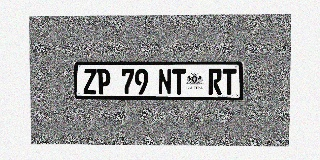7: (121, 69, 134, 94)
9: (135, 69, 148, 94)
N: (158, 69, 172, 94)
P: (97, 69, 110, 94)
R: (208, 69, 222, 94)
T: (222, 69, 236, 95), (172, 69, 186, 94)
Z: (83, 69, 97, 94)
